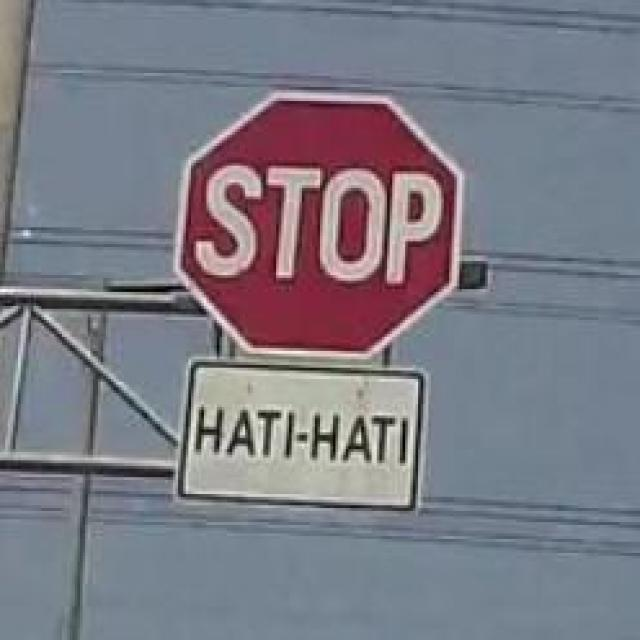traffic sign: (183, 90, 457, 360)
